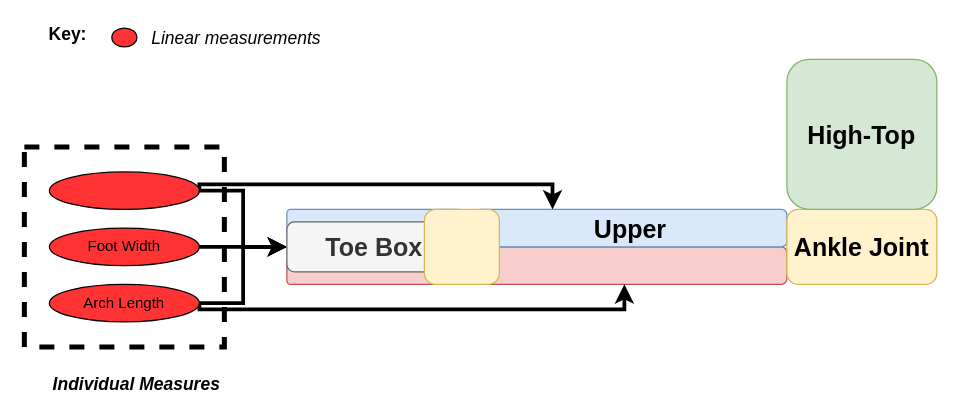
This 959x418 diagram has some shape labels left out. Here are the shapes that lost their labels. From the top down, the centre of each, then its label:
At point (123, 190): "Foot Length".
At point (461, 246): "MTP Joint".
At point (624, 265): "Sole".
